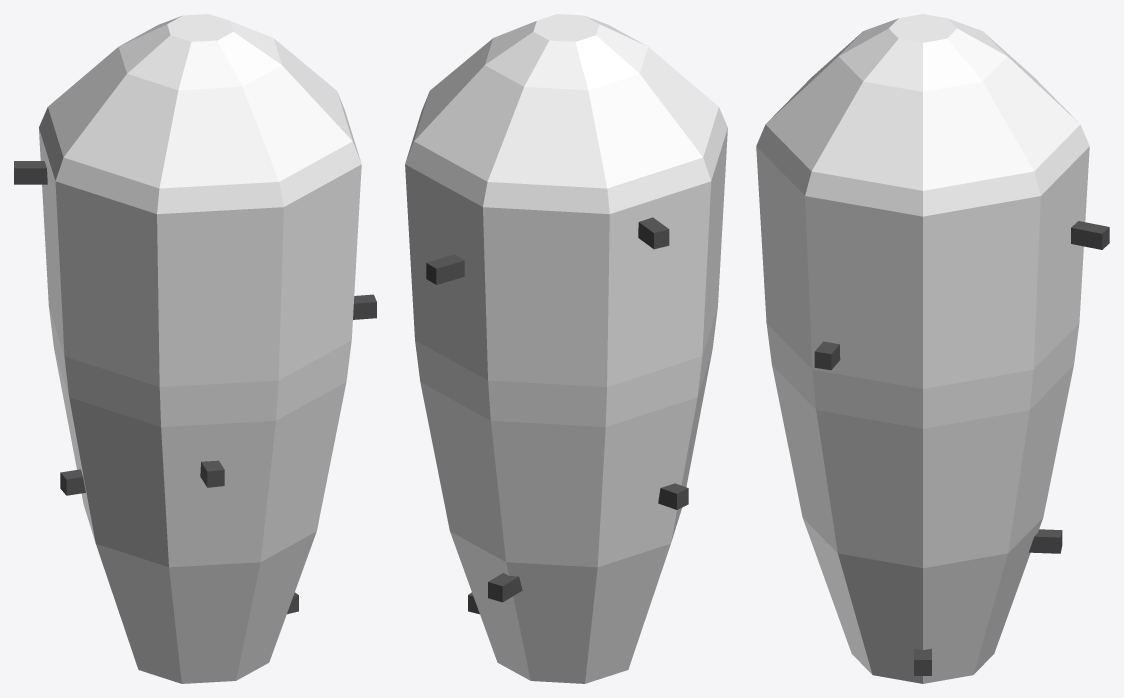
The model's file is Cactus.fbx.
The picture shows the model from 3 angles, left to right: view 1: azimuth 30°, elevation 25°; view 2: azimuth 150°, elevation 25°; view 3: azimuth 270°, elevation 25°; orthographic projection.
Visible parts, largest first — view 1: Cactus; view 2: Cactus; view 3: Cactus.
Boxes of the visible parts, x1,y1,x2,y2 form: Cactus: [14, 14, 376, 683]; Cactus: [405, 14, 727, 683]; Cactus: [756, 14, 1109, 683].
Bounding box in the file's own units: 111 × 229 × 117.
